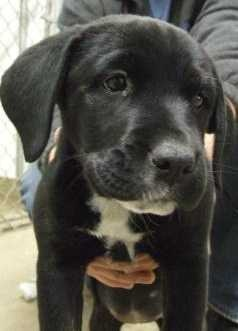dog: (21, 7, 232, 330)
